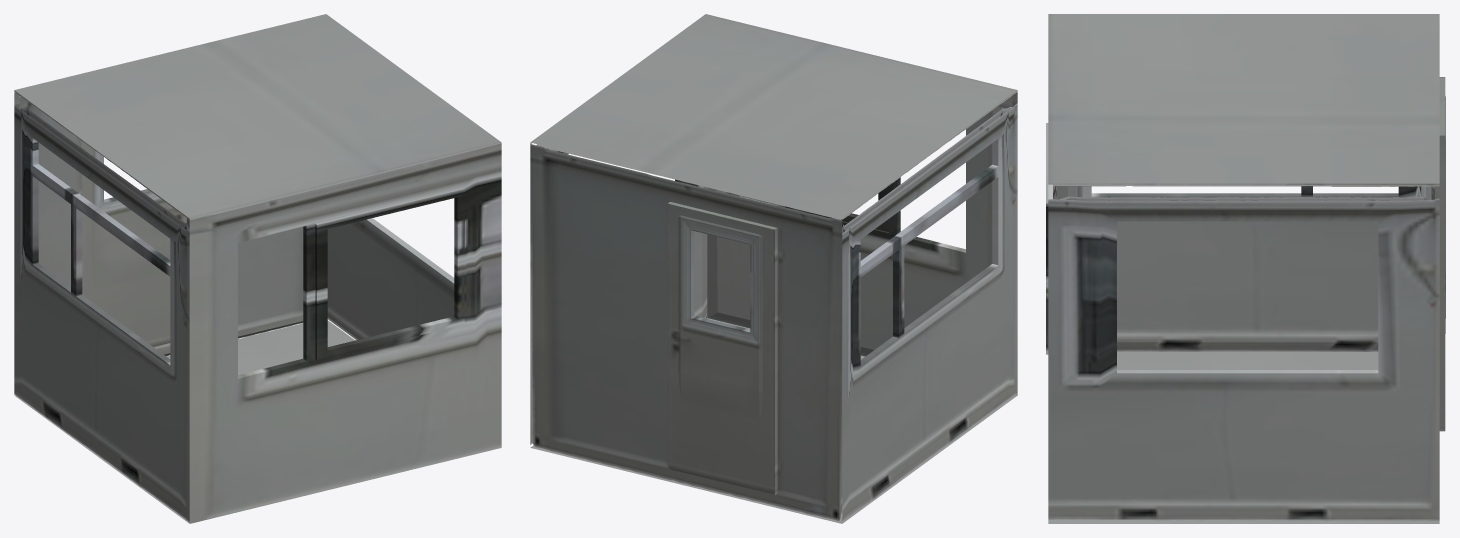
Rendered from SM_ARC_Kiosk_A_01.fbx.
The picture shows the model from 3 angles, left to right: view 1: azimuth 30°, elevation 25°; view 2: azimuth 150°, elevation 25°; view 3: azimuth 270°, elevation 25°; orthographic projection. The views are drawn at different scales.
Parts seen in each view (by area): view 1: SM_ARC_Kiosk_A_01; view 2: SM_ARC_Kiosk_A_01; view 3: SM_ARC_Kiosk_A_01.
Boxes of the visible parts, x1=… form: SM_ARC_Kiosk_A_01: x1=14, y1=14, x2=501, y2=523; SM_ARC_Kiosk_A_01: x1=530, y1=14, x2=1017, y2=523; SM_ARC_Kiosk_A_01: x1=1046, y1=14, x2=1445, y2=523.
Size of the model in its own units: 256 by 257 by 240.
